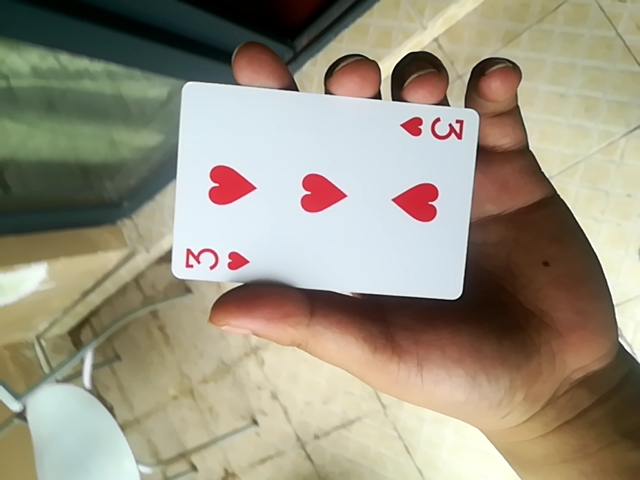hx 3: (168, 84, 481, 305)
